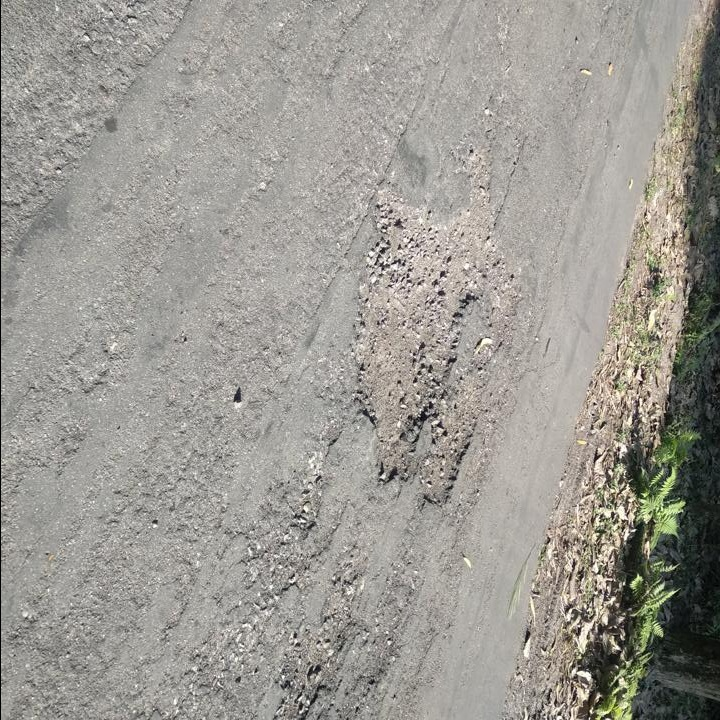pothole: (347, 137, 524, 510)
